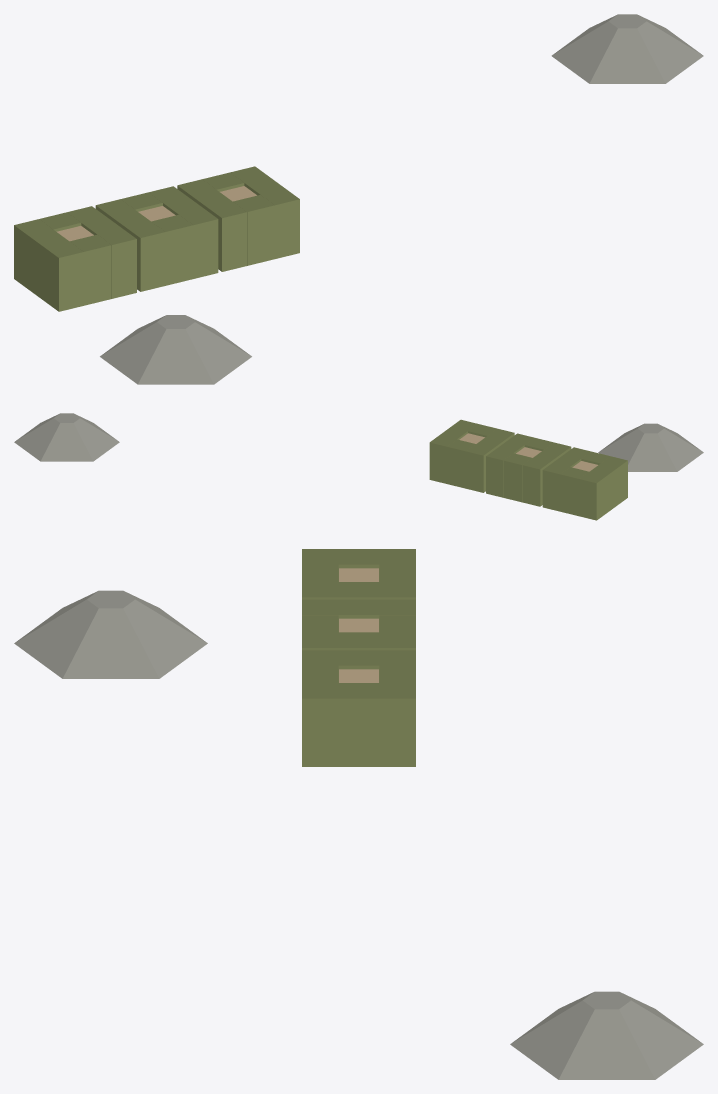
File: SM_ObraReconstruccion_v3_10m_LOD1.fbx
3 views of the same model, one above another, from view 1: azimuth 30°, elevation 25°; view 2: azimuth 150°, elevation 25°; view 3: azimuth 270°, elevation 25° (orthographic). The views are drawn at different scales.
Visible parts, largest first — view 1: SM_obra_curso_v47_LOD1; view 2: SM_obra_curso_v47_LOD1; view 3: SM_obra_curso_v47_LOD1.
Part boxes in pixels (x1,y1,x2,y2): SM_obra_curso_v47_LOD1: (14, 14, 703, 384); SM_obra_curso_v47_LOD1: (14, 413, 703, 520); SM_obra_curso_v47_LOD1: (14, 549, 703, 1079).
Size of the model in its own units: 10.36 by 0.7 by 6.4.
